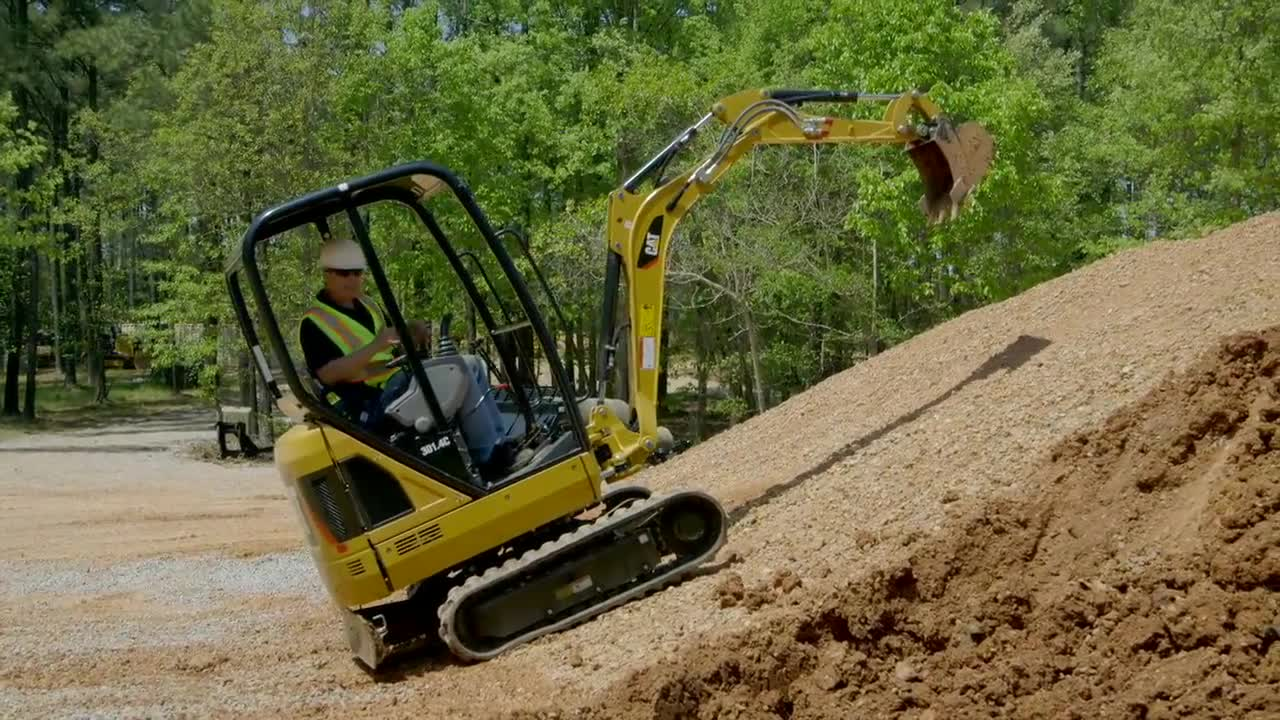attachment-bucket: (905, 109, 997, 228)
cabin: (226, 160, 605, 607)
forearm: (715, 82, 914, 145)
upperarm: (625, 127, 768, 443)
wheelbase: (402, 480, 731, 659)
